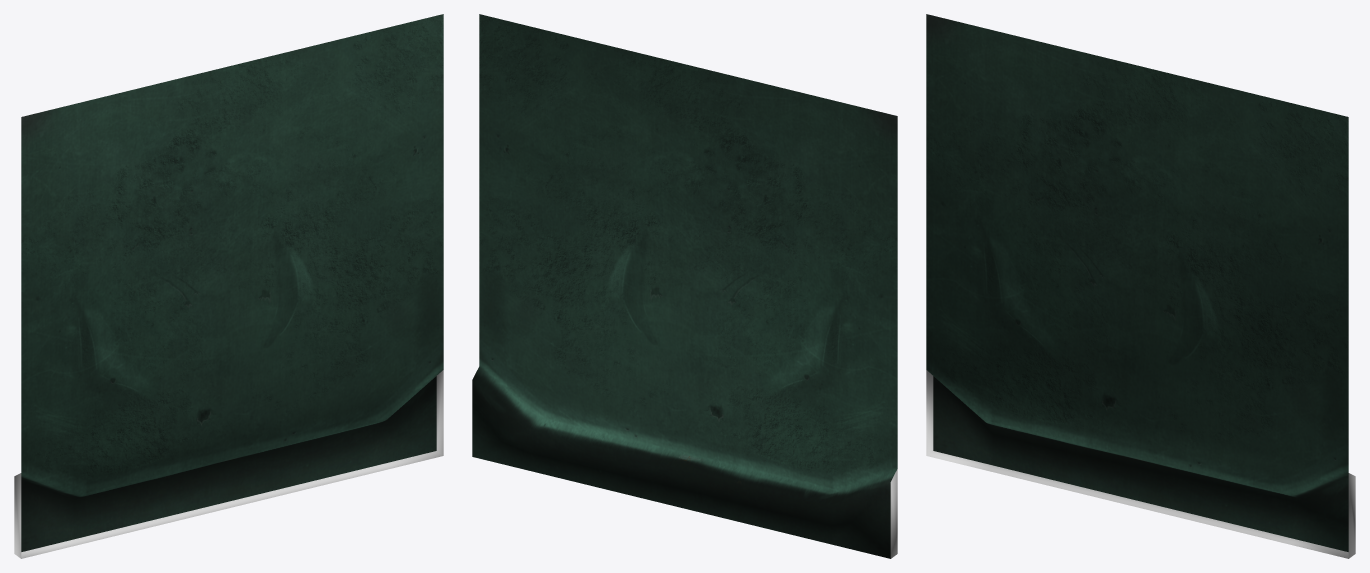
The model's file is WallTileGreen.fbx.
3 renders of one model, left to right at view 1: azimuth 30°, elevation 25°; view 2: azimuth 150°, elevation 25°; view 3: azimuth 330°, elevation 25°, orthographic.
Visible parts, largest first — view 1: WallTileGreen; view 2: WallTileGreen; view 3: WallTileGreen.
Boxes of the visible parts, box(x1,y1,x2,y2) form: WallTileGreen: box(14, 14, 443, 558); WallTileGreen: box(472, 14, 897, 558); WallTileGreen: box(926, 14, 1355, 558).
Bounding box in the file's own units: 3 × 3 × 0.0846.
2 materials, 1 textured.
